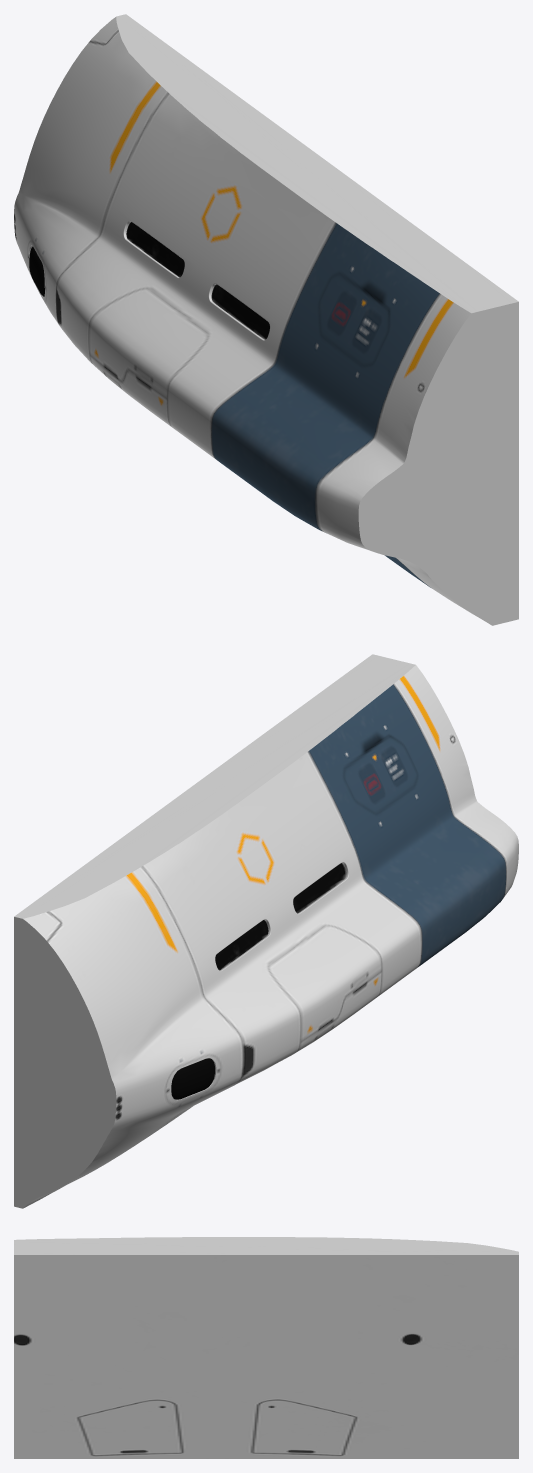
The model's file is Sub_samping.glb.
The picture shows the model from 3 angles, top to bottom: view 1: azimuth 30°, elevation 25°; view 2: azimuth 150°, elevation 25°; view 3: azimuth 270°, elevation 25°; orthographic projection. The views are drawn at different scales.
Parts seen in each view (by area): view 1: Object_7; view 2: Object_7, Object_11; view 3: Object_7.
Part boxes in pixels (<box>): Object_7: <box>14,14,518,625</box>; Object_7: <box>14,654,518,1208</box>; Object_11: <box>171,1058,214,1099</box>; Object_7: <box>14,1237,518,1458</box>.
Size of the model in its own units: 133 by 223 by 500.
2 materials, 2 textured.
